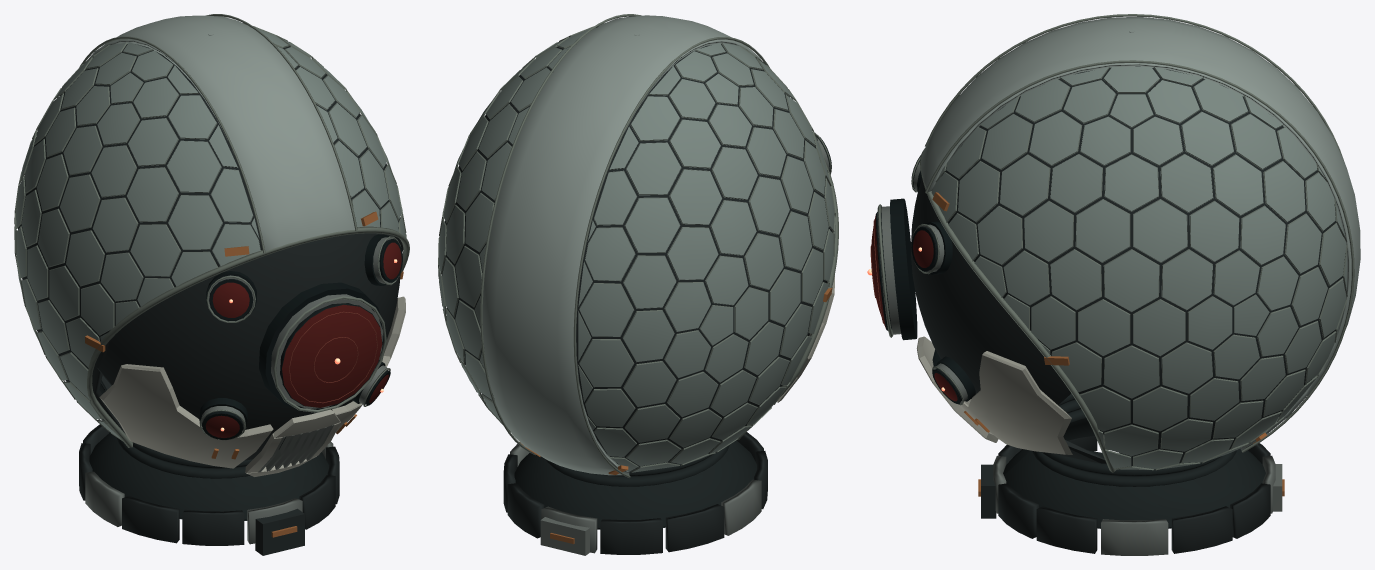
The model's file is hex_witness_d0_lod1.glb.
The picture shows the model from 3 angles, left to right: view 1: azimuth 30°, elevation 25°; view 2: azimuth 150°, elevation 25°; view 3: azimuth 270°, elevation 25°; orthographic projection. The views are drawn at different scales.
Visible parts, largest first — view 1: SURFACE_SHELL, SURFACE_CROWN_BAND, SURFACE_FACEPLATE, SURFACE_COLLAR, OPTICAL_GLASS, SURFACE_JAW, SURFACE_OPTICS, SURFACE_RESPIRATOR; view 2: SURFACE_SHELL, SURFACE_CROWN_BAND, SURFACE_COLLAR, SURFACE_JAW; view 3: SURFACE_SHELL, SURFACE_COLLAR, SURFACE_CROWN_BAND, SURFACE_FACEPLATE, SURFACE_OPTICS, SURFACE_JAW, OPTICAL_GLASS, SURFACE_RESPIRATOR.
Part boxes in pixels (<box>): SURFACE_SHELL: <box>14,23,409,447</box>; SURFACE_CROWN_BAND: <box>79,14,357,253</box>; SURFACE_FACEPLATE: <box>96,233,400,460</box>; SURFACE_COLLAR: <box>79,424,339,555</box>; OPTICAL_GLASS: <box>205,242,401,437</box>; SURFACE_JAW: <box>99,296,405,468</box>; SURFACE_OPTICS: <box>199,234,402,440</box>; SURFACE_RESPIRATOR: <box>245,409,340,476</box>; SURFACE_SHELL: <box>438,23,838,474</box>; SURFACE_CROWN_BAND: <box>480,14,769,477</box>; SURFACE_COLLAR: <box>503,432,767,555</box>; SURFACE_JAW: <box>777,275,834,402</box>; SURFACE_SHELL: <box>920,66,1347,472</box>; SURFACE_COLLAR: <box>978,393,1284,555</box>; SURFACE_CROWN_BAND: <box>921,14,1360,452</box>; SURFACE_FACEPLATE: <box>911,178,1106,463</box>; SURFACE_OPTICS: <box>876,155,975,404</box>; SURFACE_JAW: <box>960,351,1072,454</box>; OPTICAL_GLASS: <box>870,214,957,401</box>; SURFACE_RESPIRATOR: <box>916,336,998,442</box>.
Size of the model in its own units: 0.2786 by 0.379 by 0.3553.
